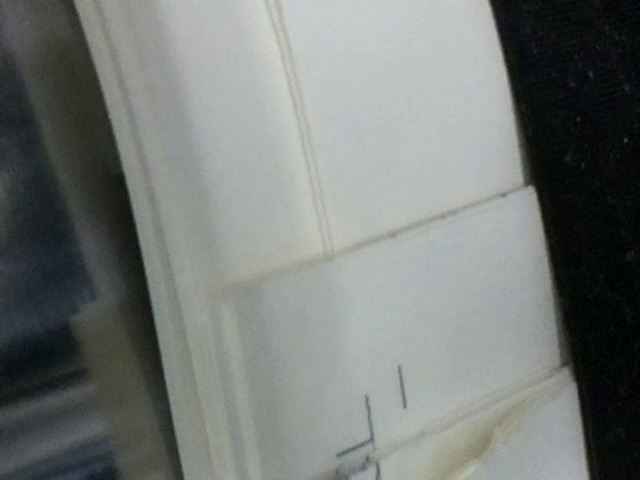misaligned: (311, 389, 386, 480)
